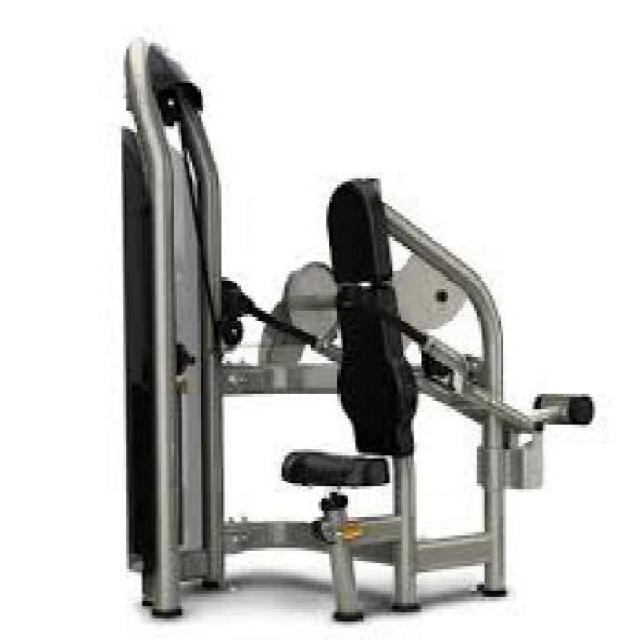seated dip machine: (111, 23, 595, 626)
